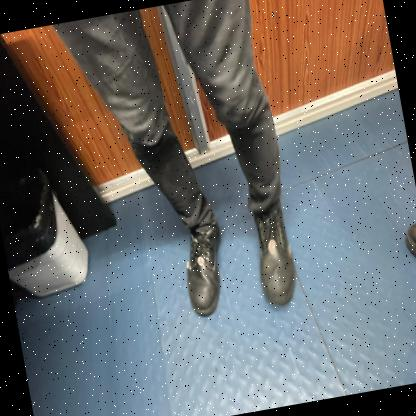bota: (245, 195, 302, 310), (175, 216, 235, 320)
